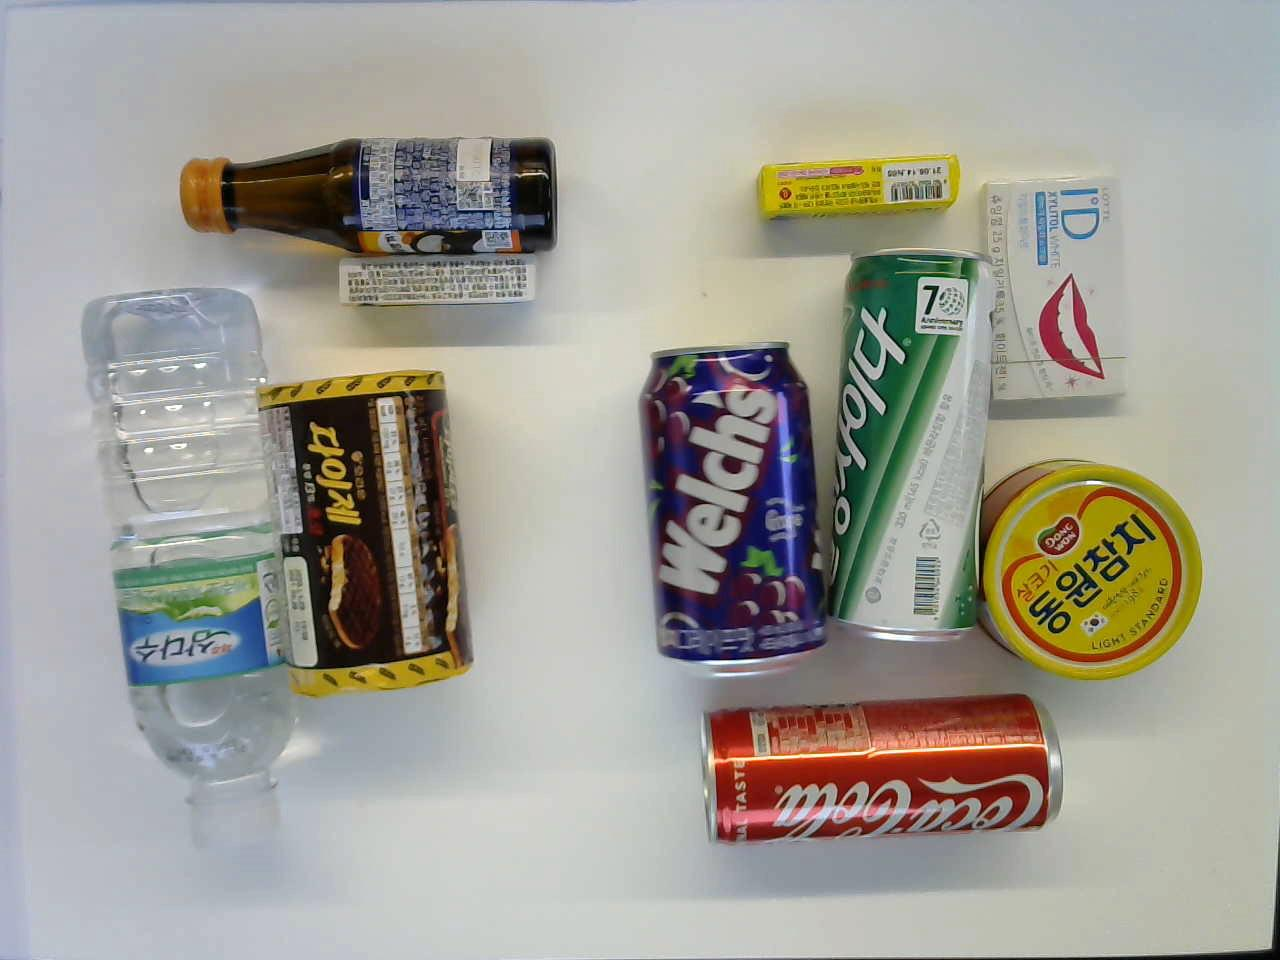ID_gum: (978, 168, 1137, 421)
cidar: (835, 236, 992, 658)
coke: (694, 689, 1063, 847)
diget_choco: (255, 365, 475, 698)
juicyfresh: (748, 146, 961, 224)
samdasu: (65, 285, 303, 849)
spearmint: (333, 254, 542, 308)
tuna: (965, 449, 1205, 683)
vita500: (175, 134, 566, 250)
welchs: (629, 333, 833, 677)
